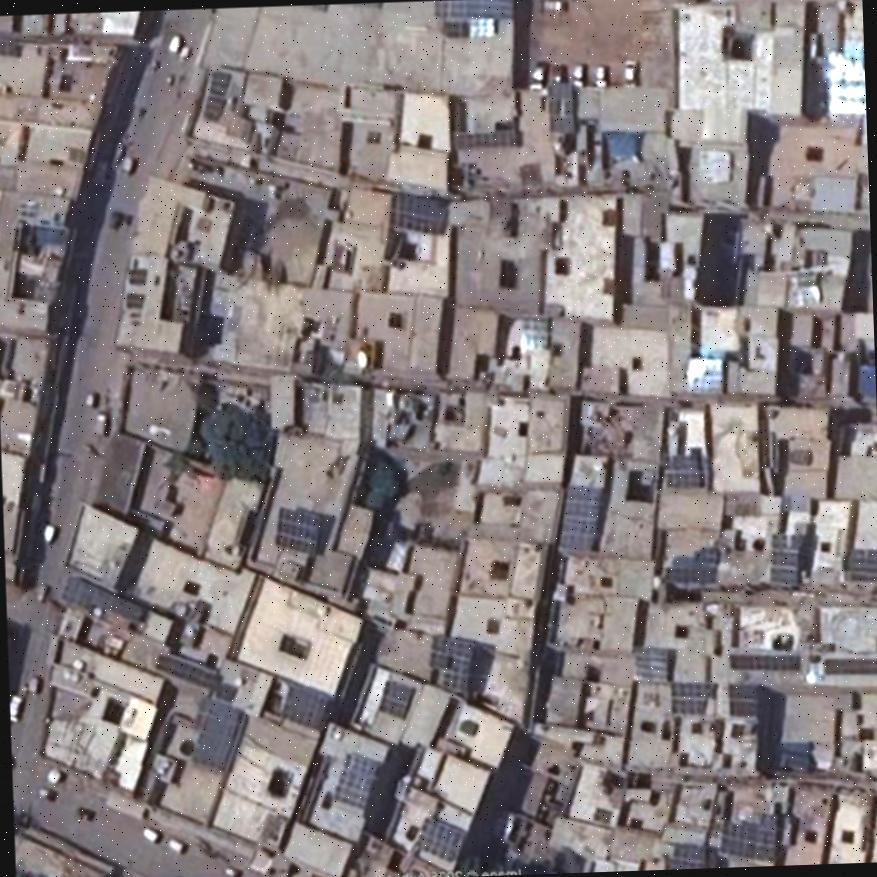Solarpanel: (188, 698, 239, 771), (60, 578, 145, 619), (558, 485, 603, 553), (430, 635, 474, 694), (333, 752, 376, 806), (279, 683, 328, 730), (415, 815, 463, 862), (155, 655, 220, 689), (718, 821, 776, 859), (829, 53, 865, 114), (390, 196, 449, 232), (274, 507, 319, 551), (768, 536, 799, 587), (378, 678, 413, 721), (432, 0, 512, 18), (671, 682, 715, 713), (686, 358, 722, 395), (665, 452, 703, 487), (631, 647, 666, 683), (451, 130, 517, 147), (843, 550, 877, 582), (729, 655, 800, 669), (519, 317, 549, 349), (728, 684, 757, 716), (822, 658, 877, 674), (668, 845, 704, 868), (202, 95, 224, 119), (207, 72, 229, 96), (216, 684, 237, 700), (127, 267, 145, 283), (125, 293, 144, 308), (0, 41, 17, 57)
